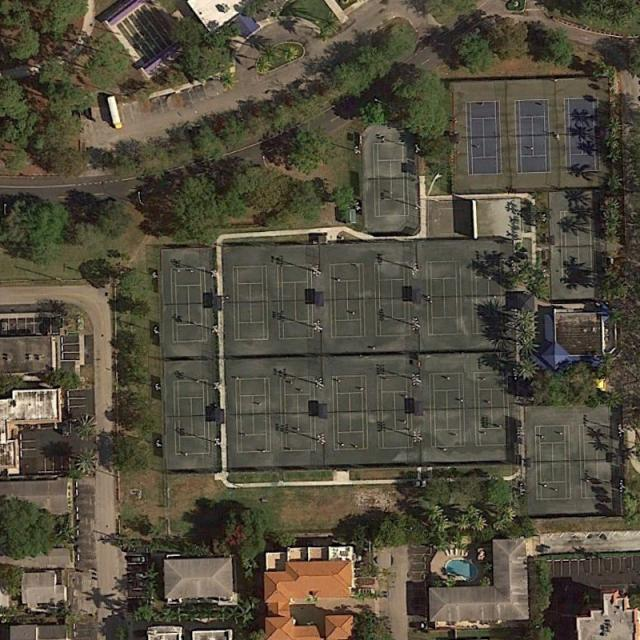vehicle: (106, 96, 122, 130), (127, 557, 146, 564)
